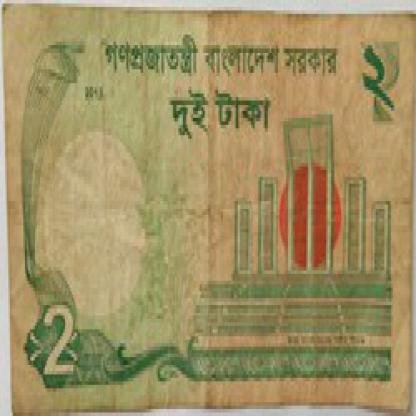two taka: (353, 45, 401, 142), (45, 302, 83, 381)
